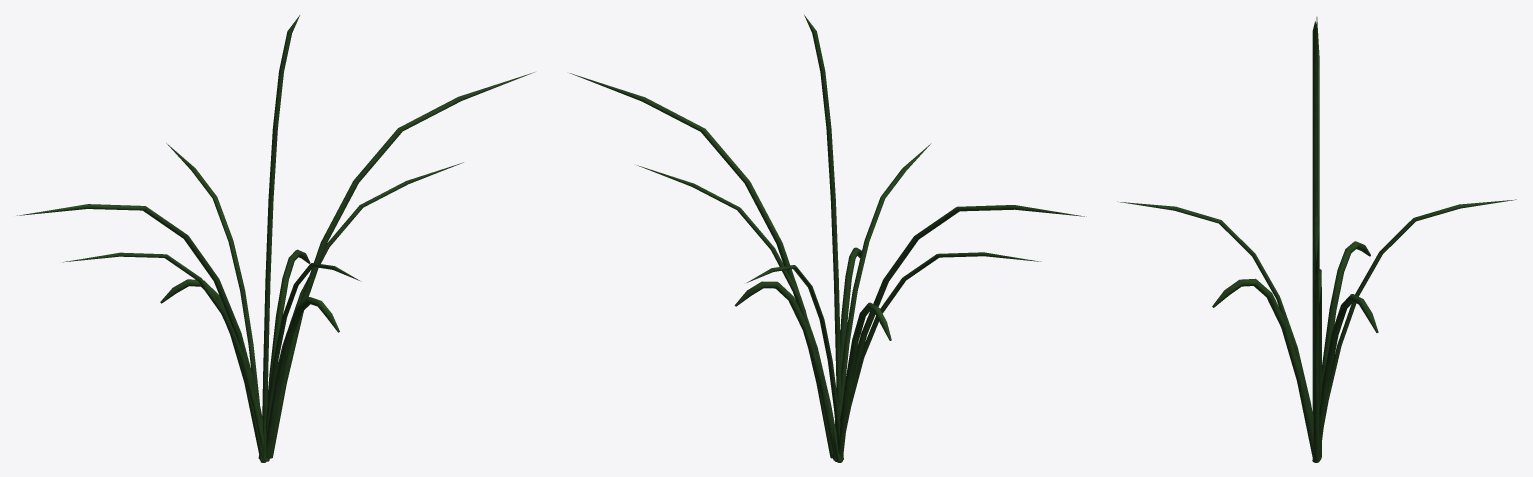
The model's file is Grass3.fbx.
3 views of the same model, side by side, from view 1: azimuth 30°, elevation 25°; view 2: azimuth 150°, elevation 25°; view 3: azimuth 270°, elevation 25° (orthographic). The views are drawn at different scales.
Visible parts, largest first — view 1: Line007; view 2: Line007; view 3: Line007.
Part boxes in pixels (x1,y1,x2,y2): Line007: [17, 15, 534, 462]; Line007: [569, 15, 1086, 462]; Line007: [1117, 17, 1516, 462].
Bounding box in the file's own units: 72.65 × 58.29 × 46.31.
1 material, 1 textured.
